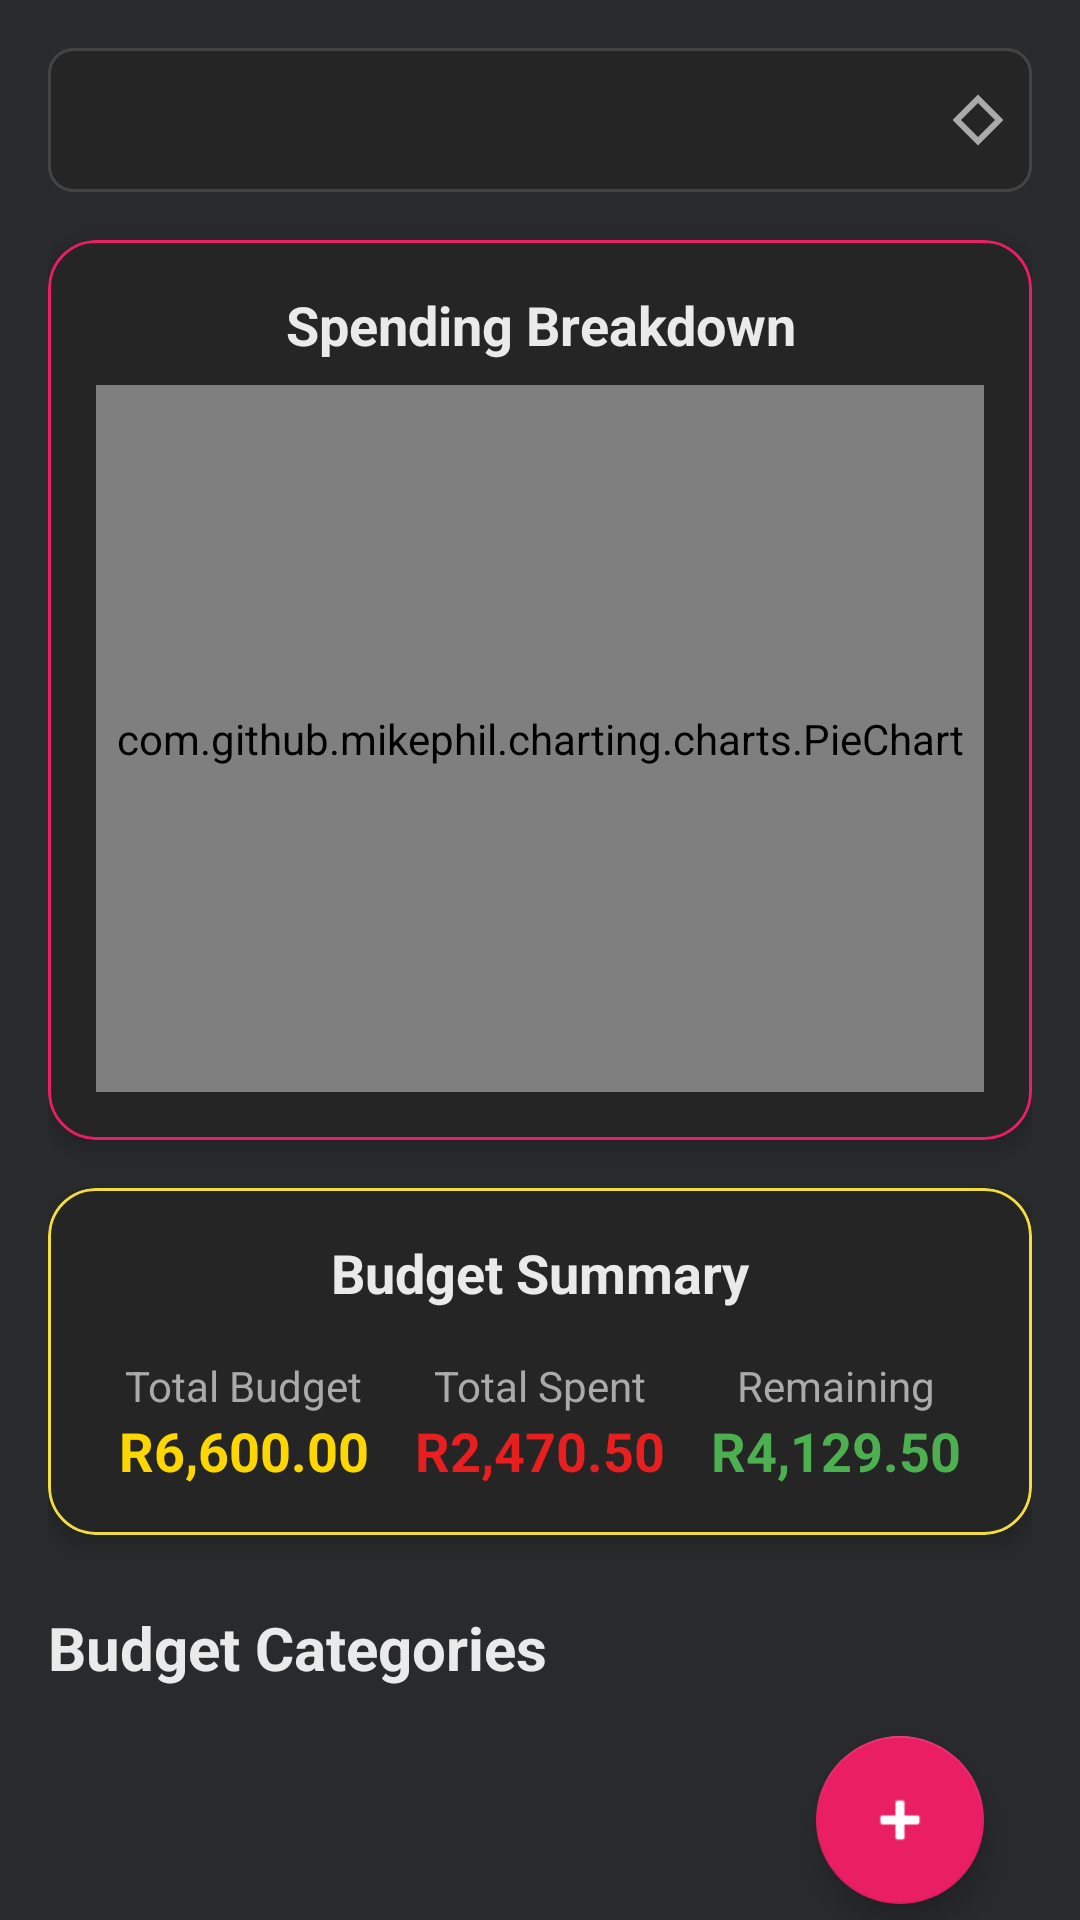

Locate icon controls on the screen. Image size 1080×1920, boxes as (x1, y1, x2, y2).
add: (816, 1736, 984, 1904)
